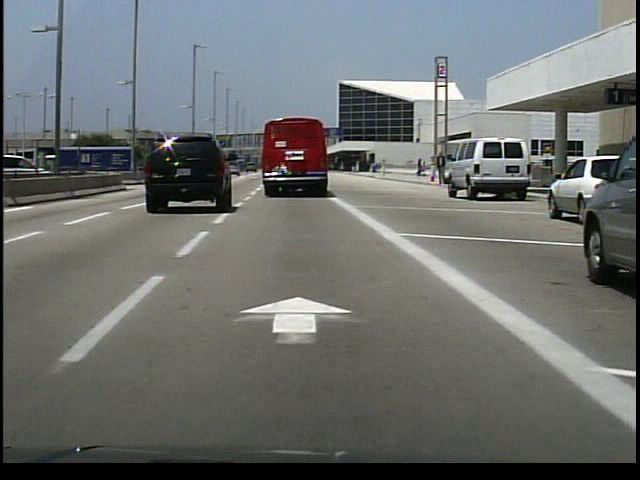person: (434, 153, 448, 191)
